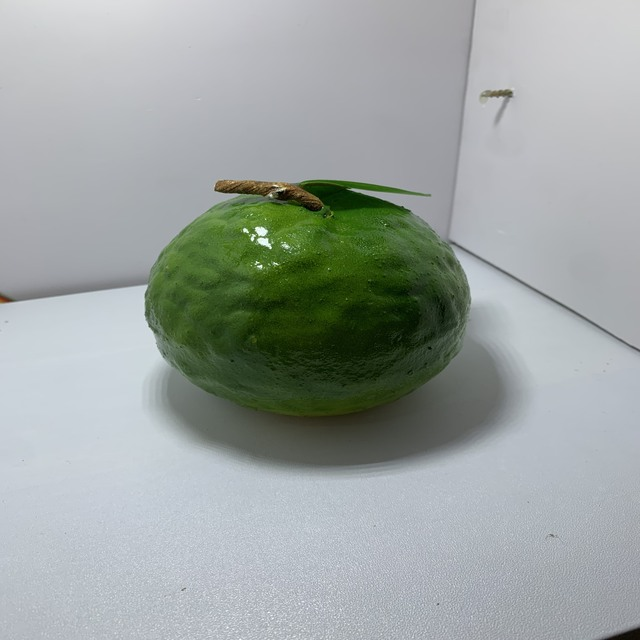Cam xanh: (133, 177, 479, 426)
